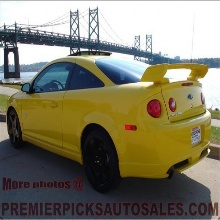no damage: (5, 51, 213, 194)
